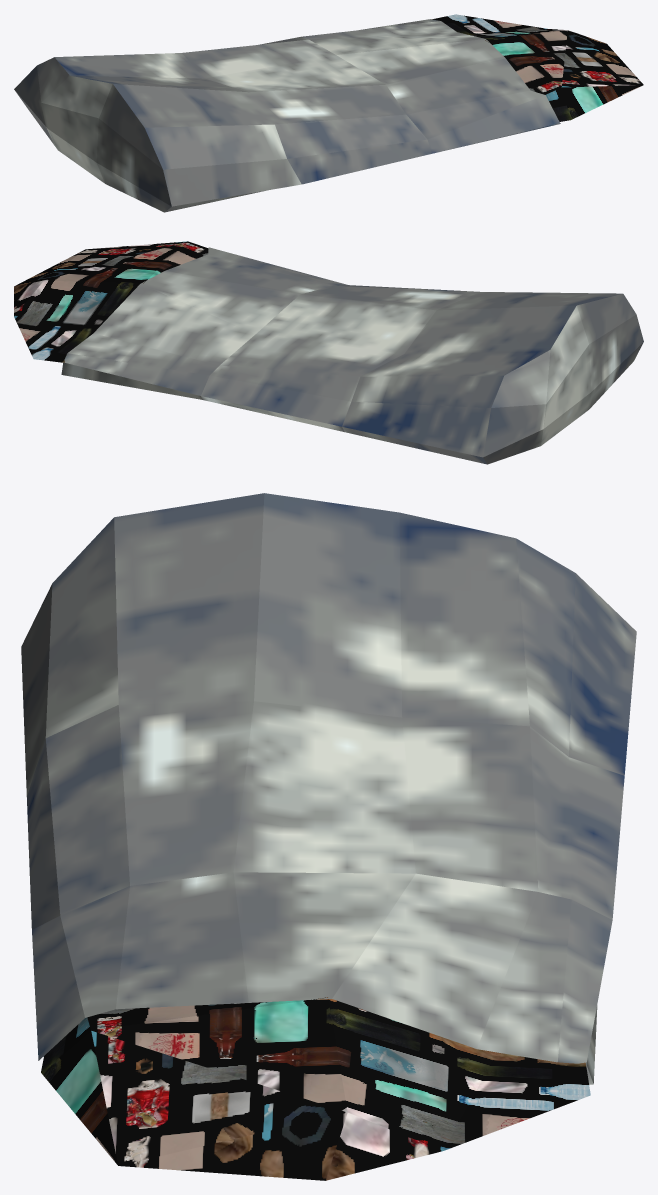
The model's file is Urban_Trashbag3White_Model.fbx.
3 views of the same model, one above another, from view 1: azimuth 30°, elevation 25°; view 2: azimuth 150°, elevation 25°; view 3: azimuth 270°, elevation 25° (orthographic). The views are drawn at different scales.
Parts seen in each view (by area): view 1: Urban_Trashbag3White_Mesh; view 2: Urban_Trashbag3White_Mesh; view 3: Urban_Trashbag3White_Mesh.
Part boxes in pixels (x1,y1,x2,y2): Urban_Trashbag3White_Mesh: (14,14,643,212); Urban_Trashbag3White_Mesh: (14,241,643,464); Urban_Trashbag3White_Mesh: (21,493,636,1180).
Size of the model in its own units: 1.73 by 0.3175 by 0.8694.
